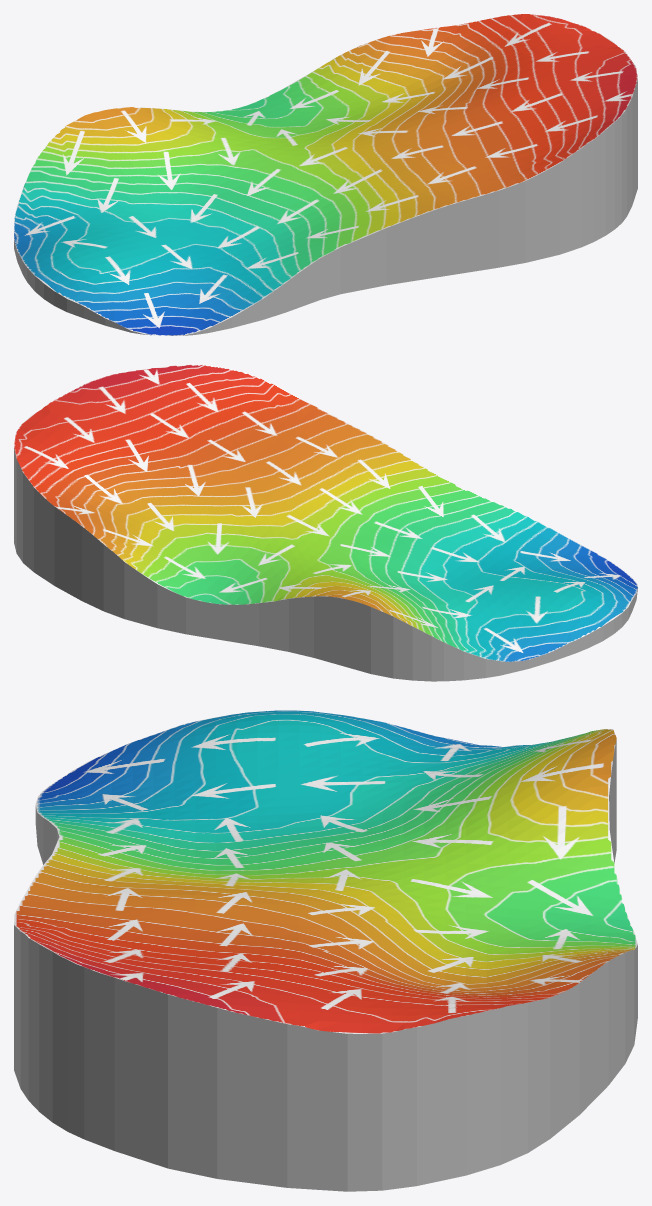
3 renders of one model, top to bottom at view 1: azimuth 30°, elevation 25°; view 2: azimuth 150°, elevation 25°; view 3: azimuth 270°, elevation 25°, orthographic. The views are drawn at different scales.
Size of the model in its own units: 4.93 by 0.877 by 2.85.
2 materials, 1 textured.
